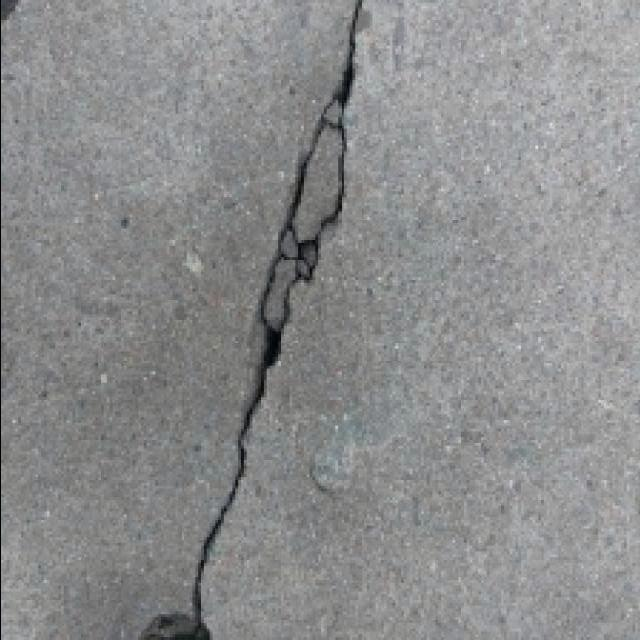SurfaceCrack: (162, 0, 388, 640)
